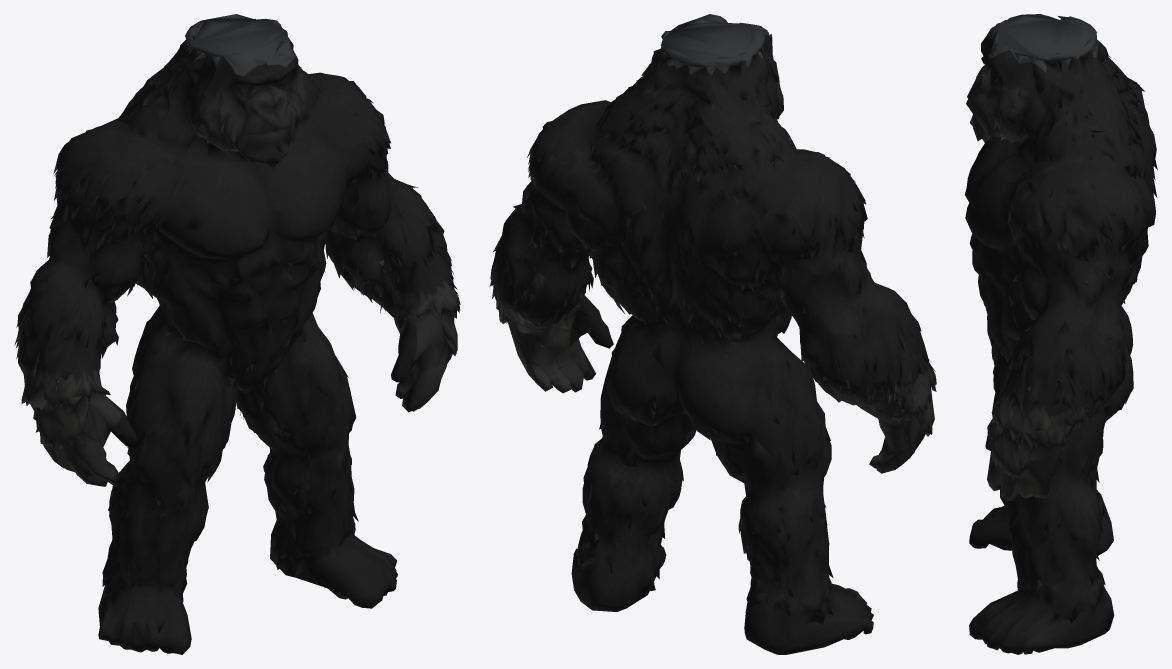
The model's file is pet_gorilla_v7.glb.
3 views of the same model, side by side, from view 1: azimuth 30°, elevation 25°; view 2: azimuth 150°, elevation 25°; view 3: azimuth 270°, elevation 25° (orthographic). The views are drawn at different scales.
Parts seen in each view (by area): view 1: char1; view 2: char1; view 3: char1.
Boxes of the visible parts, x1=… form: char1: x1=14, y1=14, x2=460, y2=654; char1: x1=489, y1=14, x2=936, y2=654; char1: x1=965, y1=14, x2=1157, y2=654.
Bounding box in the file's own units: 1.09 × 1.4 × 0.4354.
Materials: 2 (1 with a texture image).
